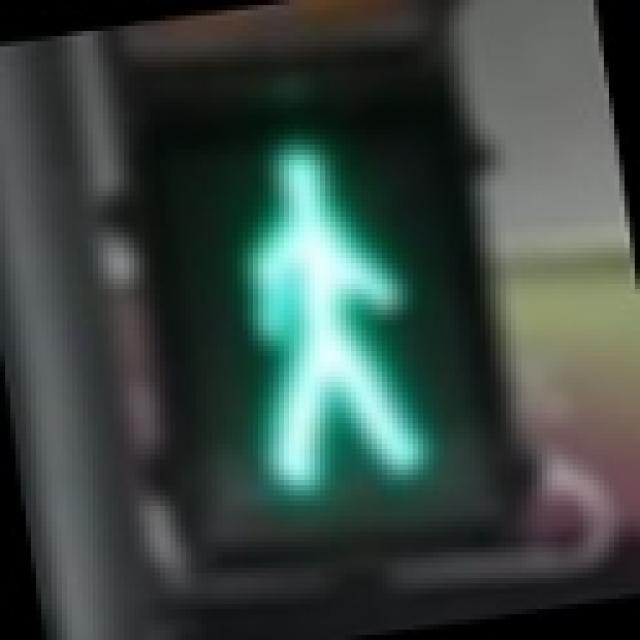green-light: (130, 79, 492, 549)
